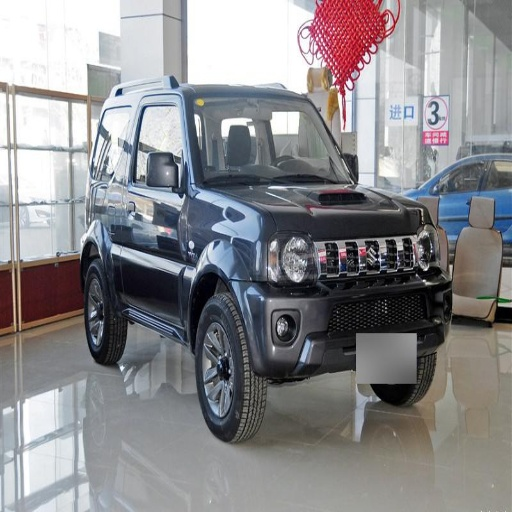front_bumper: (245, 234, 447, 386)
front_glass: (199, 100, 349, 187)
front_left_light: (414, 226, 447, 271)
front_right_door: (128, 99, 188, 318)
front_right_light: (263, 234, 327, 291)
